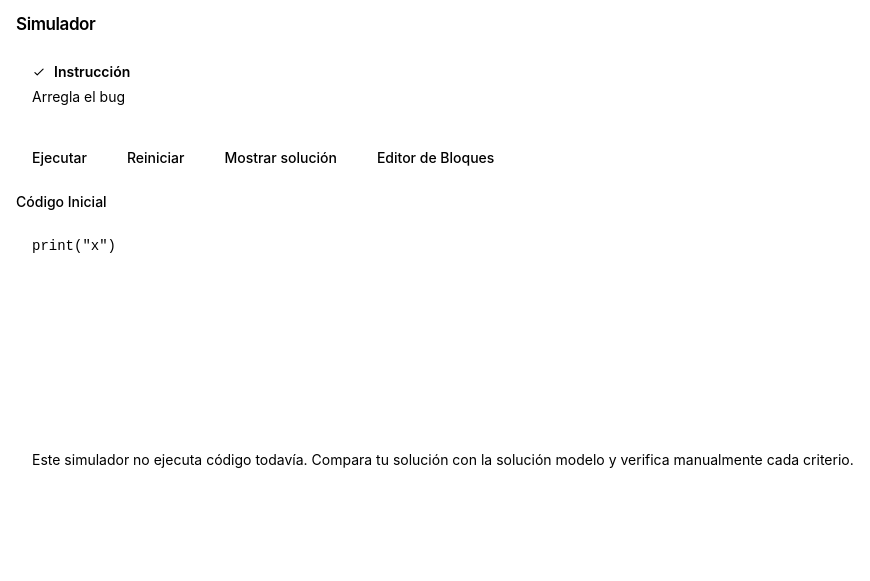
it: SimulatorPanel › muestra Ejecutar siempre, incluso con engine no soportado, y avisa al pulsar
The image size is (870, 581).
Click the button "Ejecutar": click(59, 158) [16,140,103,176]
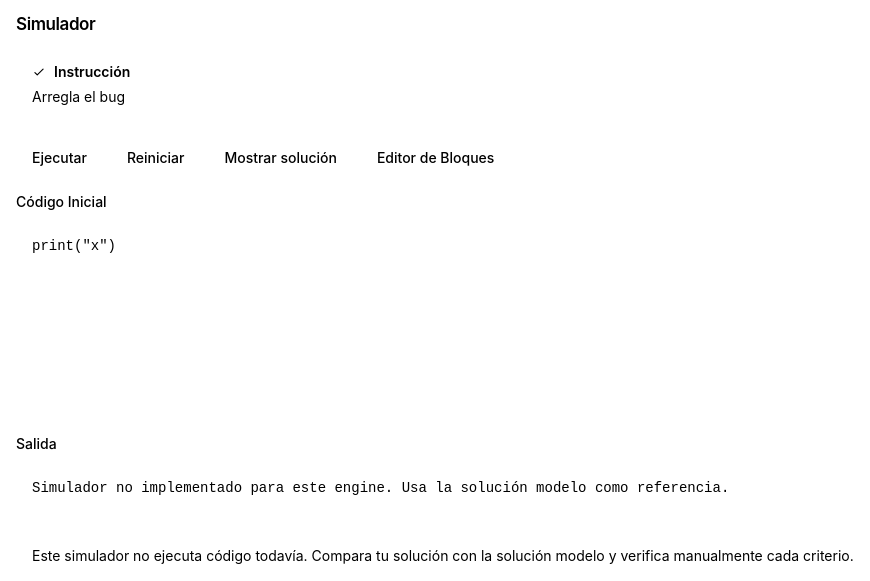
Result: the text "no implementado para este engine" is shown at [32,480,729,496]
Result: the text "Salida" is shown at [16,435,57,452]
